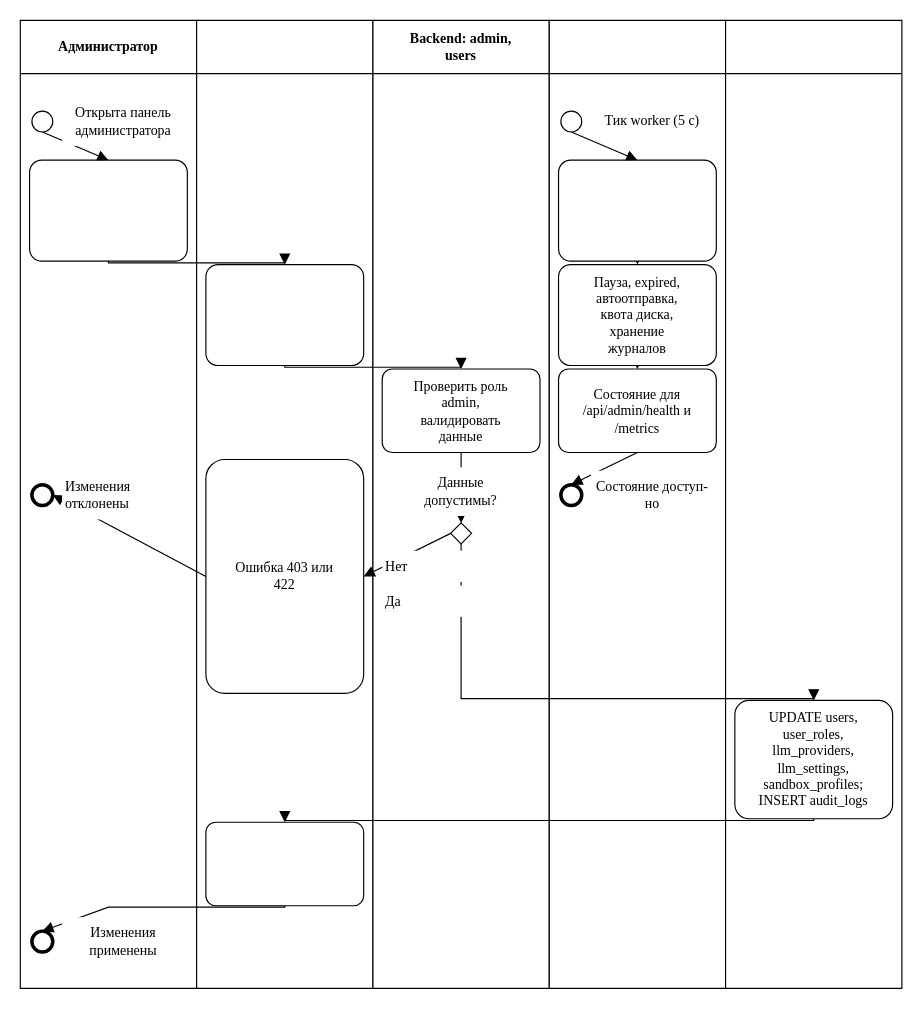
This 922x1009 diagram has some shape labels left out. Each missing label, with the box of its shape:
Frontend (SPA): (195, 19, 373, 988)
PATCH / PUT / POST из­ме­не­ния с при­чи­ной: (205, 263, 364, 366)
PostgreSQL: (724, 19, 902, 988)
Reaper: кон­тей­не­ры без сессии своей уста­нов­ки (masso.instance): (557, 159, 716, 261)
Worker и ин­фра­струк­ту­ра: (548, 19, 726, 988)
По­ка­зать ре­зуль­тат; отзыв сессий — revoke refresh_tokens: (205, 821, 364, 906)
Поль­зо­ва­те­ли и роли, LLM, пе­соч­ни­цы, журнал, со­сто­я­ние: (28, 159, 187, 261)
